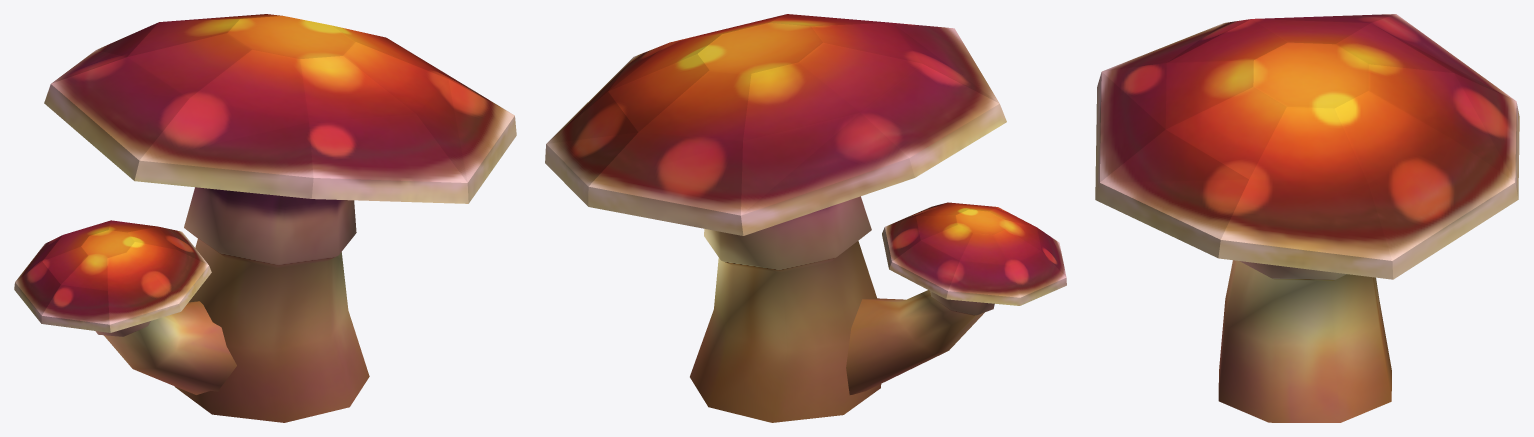
3 renders of one model, left to right at view 1: azimuth 30°, elevation 25°; view 2: azimuth 150°, elevation 25°; view 3: azimuth 270°, elevation 25°, orthographic. The views are drawn at different scales.
Visible parts, largest first — view 1: Hongo001; view 2: Hongo001; view 3: Hongo001.
Boxes of the visible parts, <box> form: Hongo001: <box>14,14,516,422</box>; Hongo001: <box>545,14,1066,422</box>; Hongo001: <box>1095,14,1519,422</box>.
Bounding box in the file's own units: 51.46 × 37.18 × 43.32.
